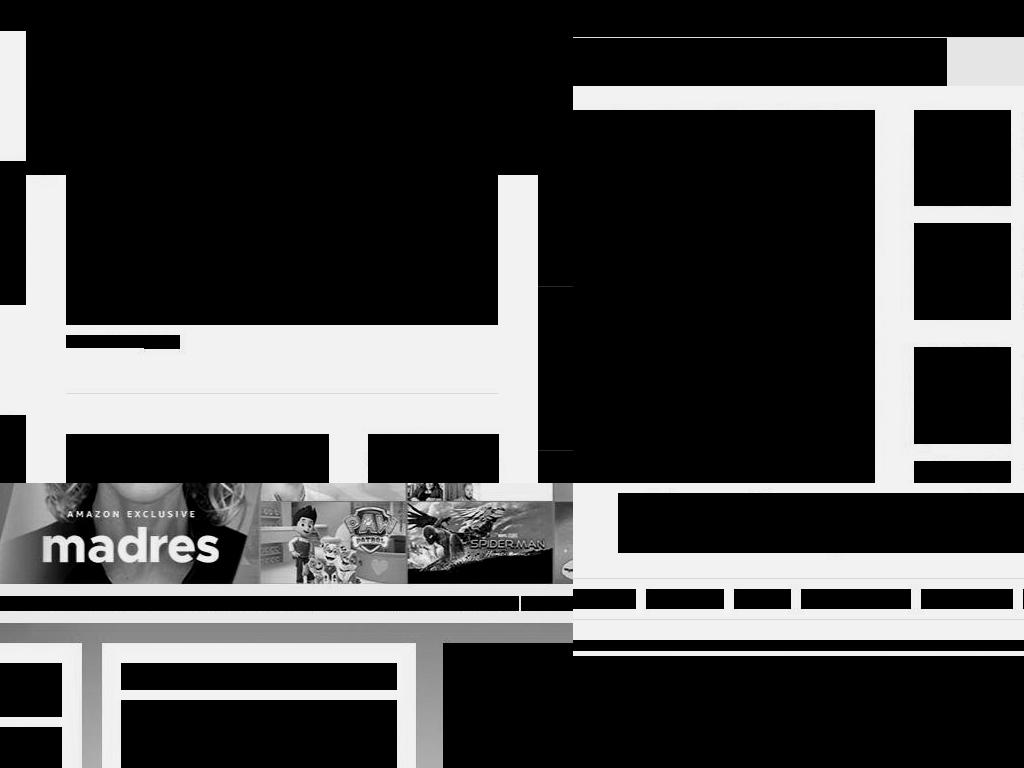button: (573, 110, 875, 483), (26, 0, 538, 175), (66, 138, 498, 325), (121, 700, 397, 768), (66, 434, 329, 483), (618, 506, 1024, 536), (914, 223, 1011, 320), (914, 347, 1011, 444), (914, 110, 1011, 206), (368, 434, 499, 483), (795, 38, 892, 86), (708, 38, 796, 86), (573, 38, 644, 86), (643, 38, 709, 86), (891, 38, 947, 86), (801, 589, 911, 609), (914, 461, 1011, 483), (921, 589, 1013, 609), (646, 589, 724, 609), (573, 589, 636, 609), (734, 589, 791, 609), (144, 335, 180, 349)
heading: (121, 663, 397, 690), (0, 663, 62, 717)
iframe: (573, 656, 1024, 768), (443, 643, 573, 768)
image: (573, 110, 875, 483), (26, 0, 538, 175), (618, 493, 1024, 553), (121, 700, 397, 768), (914, 223, 1011, 320), (914, 347, 1011, 444), (914, 110, 1011, 206), (368, 434, 499, 483), (914, 461, 1011, 483)
link: (521, 596, 573, 611)
text: (66, 138, 498, 261), (66, 271, 498, 325), (66, 434, 329, 483), (0, 596, 519, 611), (573, 640, 1024, 651), (805, 38, 882, 86), (718, 38, 786, 86), (573, 38, 634, 86), (653, 38, 699, 86), (901, 38, 937, 86), (66, 335, 126, 348), (126, 335, 144, 348)
